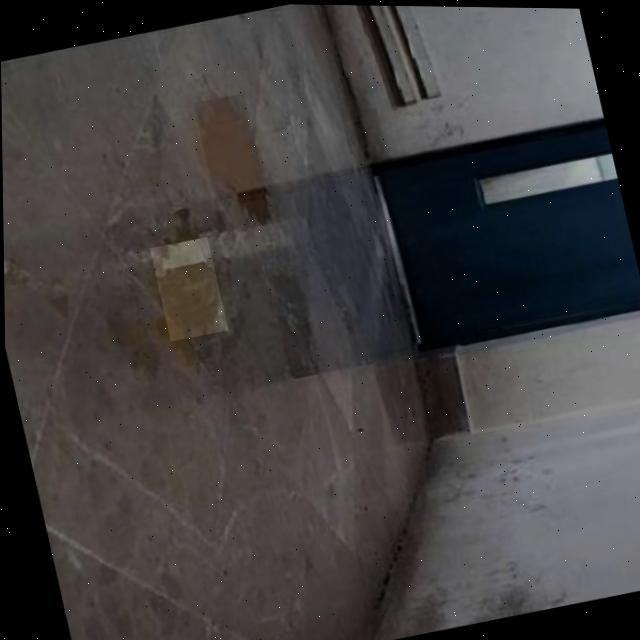spillage: (201, 99, 262, 196), (155, 239, 215, 337)
